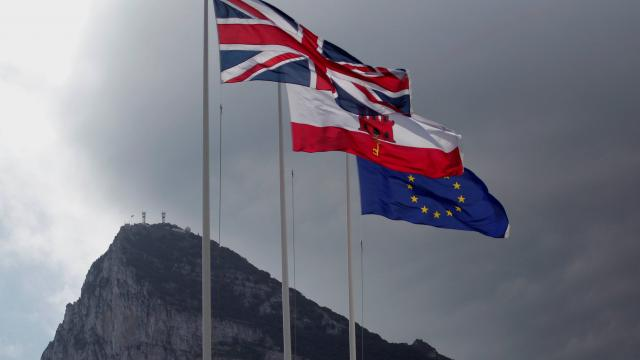Flag: (195, 1, 414, 124), (268, 57, 469, 186), (336, 132, 515, 244)
